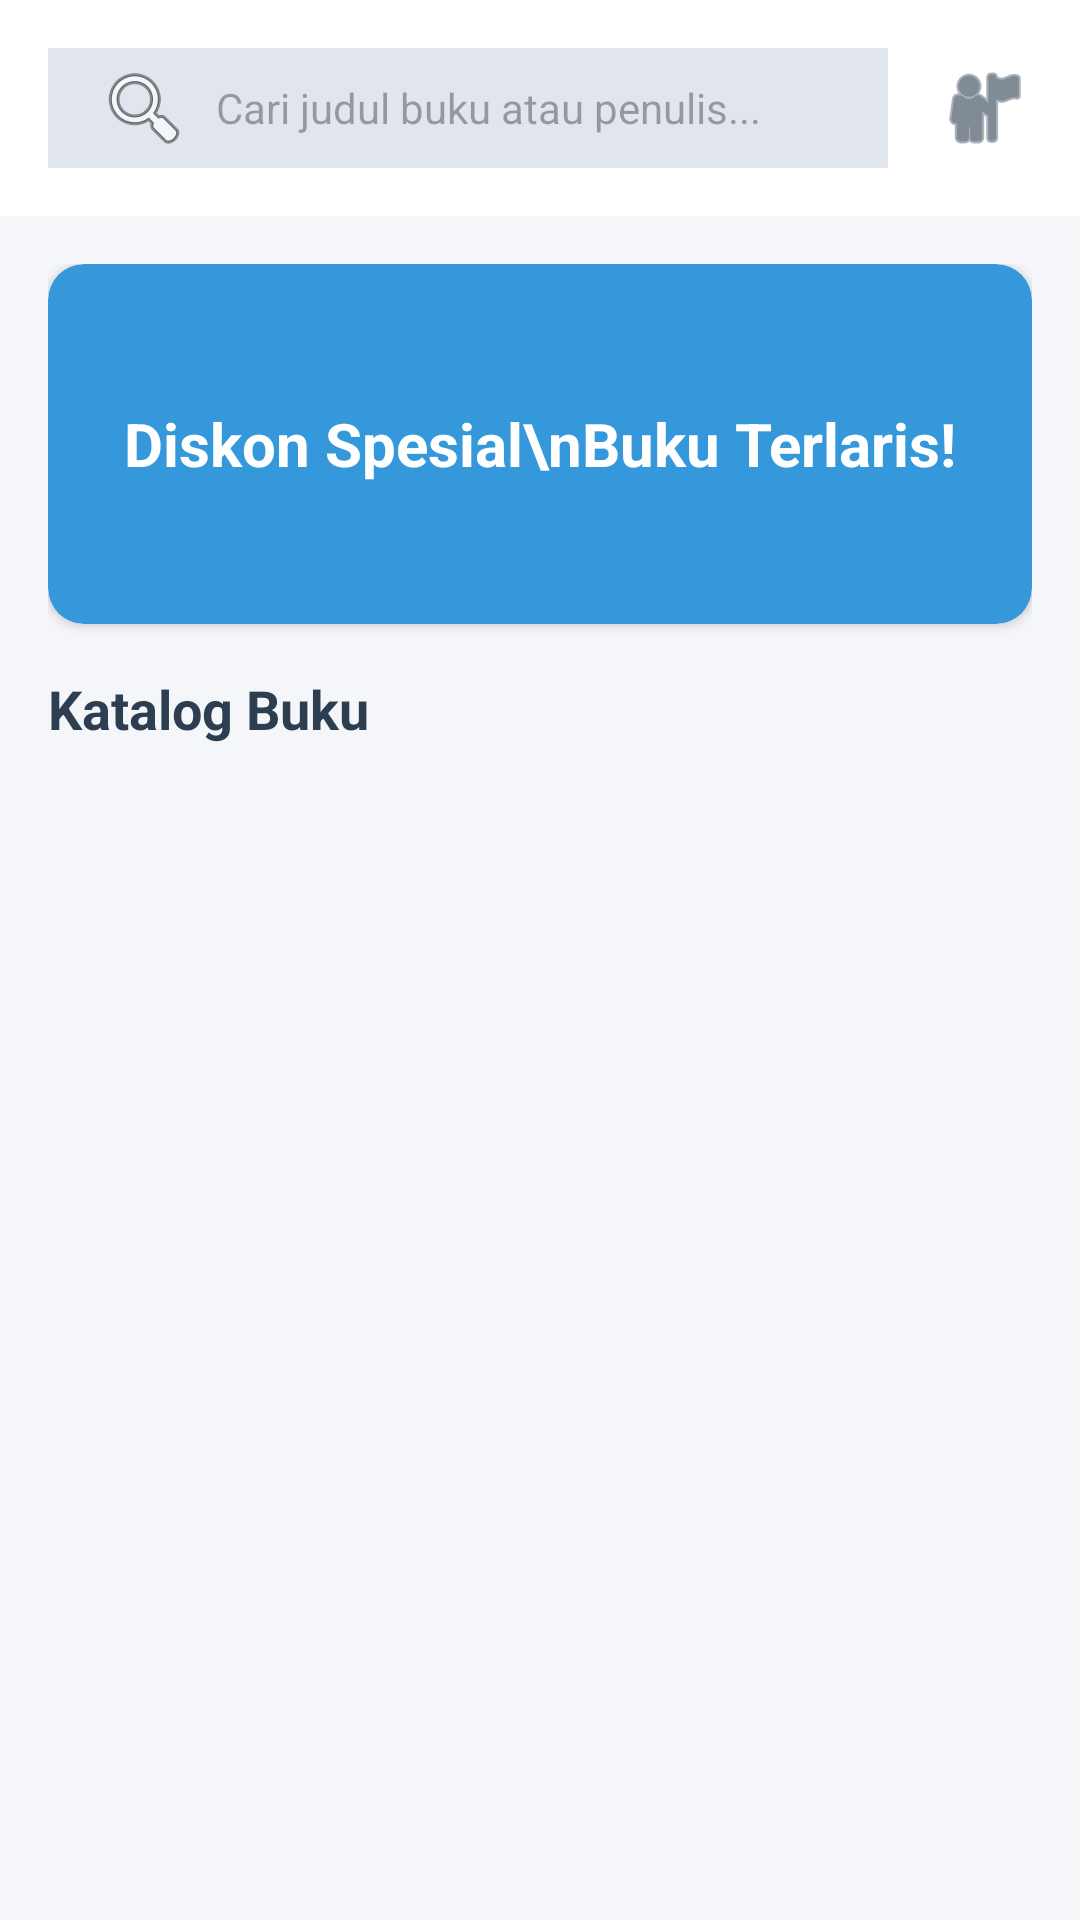

Icons on this 1080px×1920px Android screen, each with its box as box(x1, y1, x2, y2):
myplaces: box(949, 72, 1021, 144)
